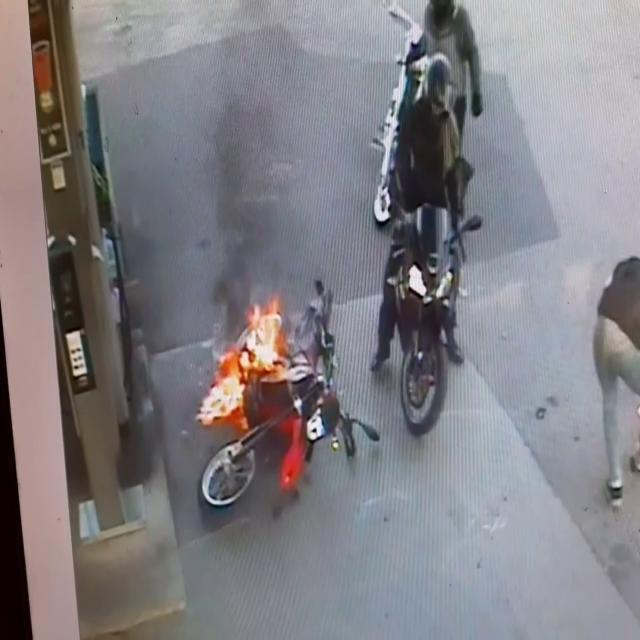Fire: (196, 295, 298, 421)
Smoke: (198, 7, 312, 305)
